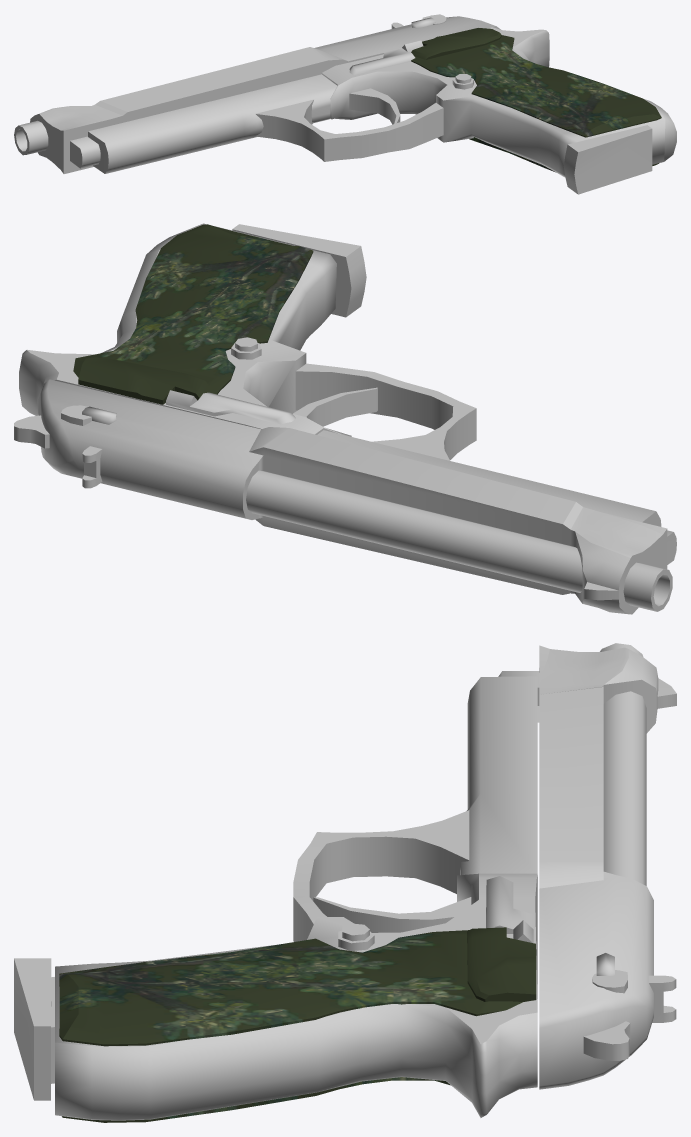
Rendered from pistol.fbx.
3 renders of one model, top to bottom at view 1: azimuth 30°, elevation 25°; view 2: azimuth 150°, elevation 25°; view 3: azimuth 270°, elevation 25°, orthographic. The views are drawn at different scales.
Visible parts, largest first — view 1: Cube, Cube_003, Cube_008, Cube_001, Cube_004, Cube_007, Cube_005, Cylinder, Plane, Cube_002; view 2: Cube_003, Cube_008, Cylinder, Cube, Cube_004, Cube_001, Cube_007, Plane, Cube_005, Cube_009, Circle_001; view 3: Cube, Cube_008, Cube_003, Cube_001, Cube_004, Cylinder, Cube_007, Cube_005, Plane, Cube_009, Circle_001, Cylinder_002.
Part boxes in pixels (box(x1,y1,x2,y2)): Cube: box(321, 27, 676, 177); Cube_003: box(30, 16, 500, 173); Cube_008: box(411, 28, 661, 172); Cube_001: box(88, 74, 336, 173); Cube_004: box(255, 99, 443, 161); Cube_007: box(563, 125, 652, 194); Cube_005: box(349, 88, 400, 124); Cylinder: box(14, 120, 48, 155); Plane: box(349, 40, 423, 74); Cube_002: box(70, 136, 100, 168); Cube_003: box(40, 379, 667, 614); Cube_008: box(73, 224, 313, 404); Cylinder: box(246, 470, 672, 611); Cube: box(19, 223, 351, 436); Cube_004: box(295, 363, 476, 460); Cube_001: box(317, 430, 661, 526); Cube_007: box(232, 224, 366, 317); Plane: box(166, 390, 295, 424); Cube_005: box(293, 387, 377, 426); Cube_009: box(14, 415, 49, 448); Circle_001: box(82, 446, 102, 488); Cube: box(55, 873, 537, 1120); Cube_008: box(59, 927, 536, 1122); Cube_003: box(539, 645, 676, 1089); Cube_001: box(460, 676, 537, 875); Cube_004: box(293, 810, 469, 941); Cylinder: box(600, 643, 646, 885); Cube_007: box(14, 958, 54, 1100); Cube_005: box(313, 897, 471, 932); Plane: box(486, 876, 533, 943); Cube_009: box(583, 1021, 630, 1060); Circle_001: box(648, 975, 676, 1022); Cylinder_002: box(338, 923, 374, 950).
Size of the model in its own units: 3.25 by 0.3708 by 2.13.
